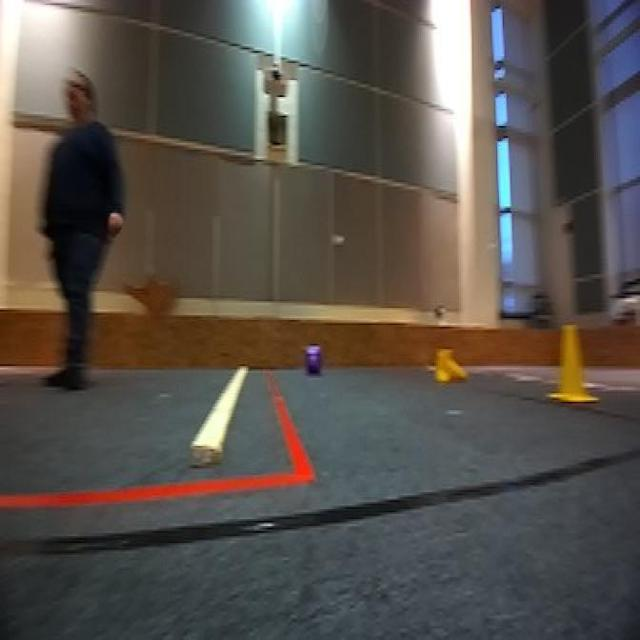frc_cone: (550, 322, 590, 410), (430, 346, 466, 386)
frc_cube: (302, 346, 324, 380)
